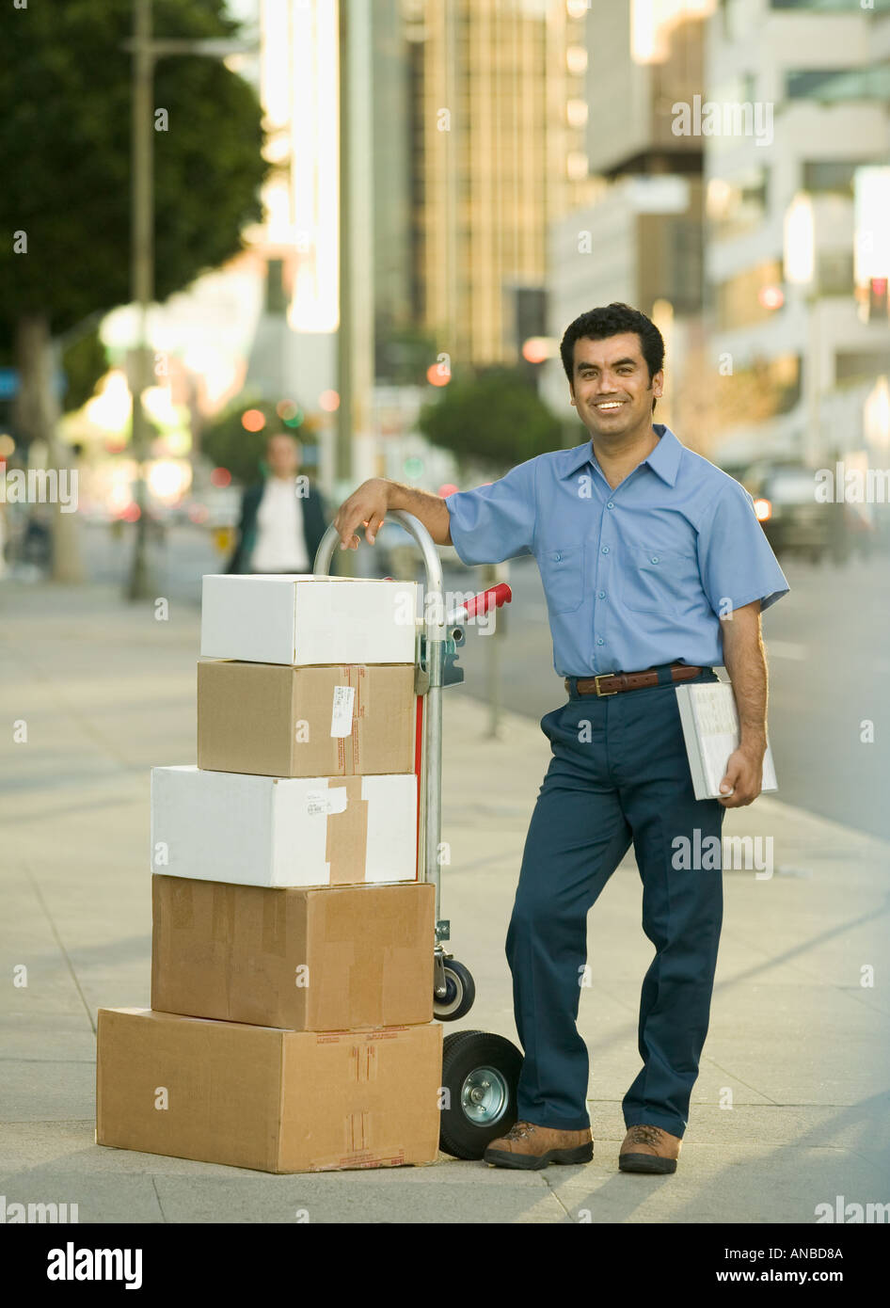DeliveryBox: (89, 558, 452, 1177)
Person: (463, 289, 800, 1180)
